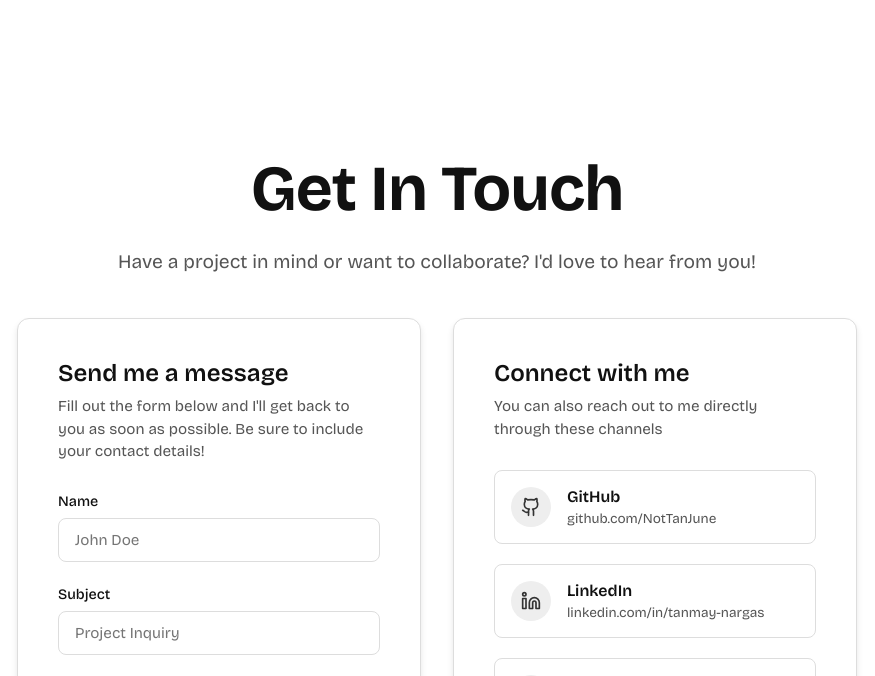
a successful submit still starts the 30s cooldown
The width and height of the screenshot is (875, 676).
Type "Ada" into the field labelled "Name" at (219, 540), box [58, 518, 380, 562]
Type "Hello" into the field labelled "Subject" at (219, 633), box [58, 611, 380, 655]
(page scrolled)
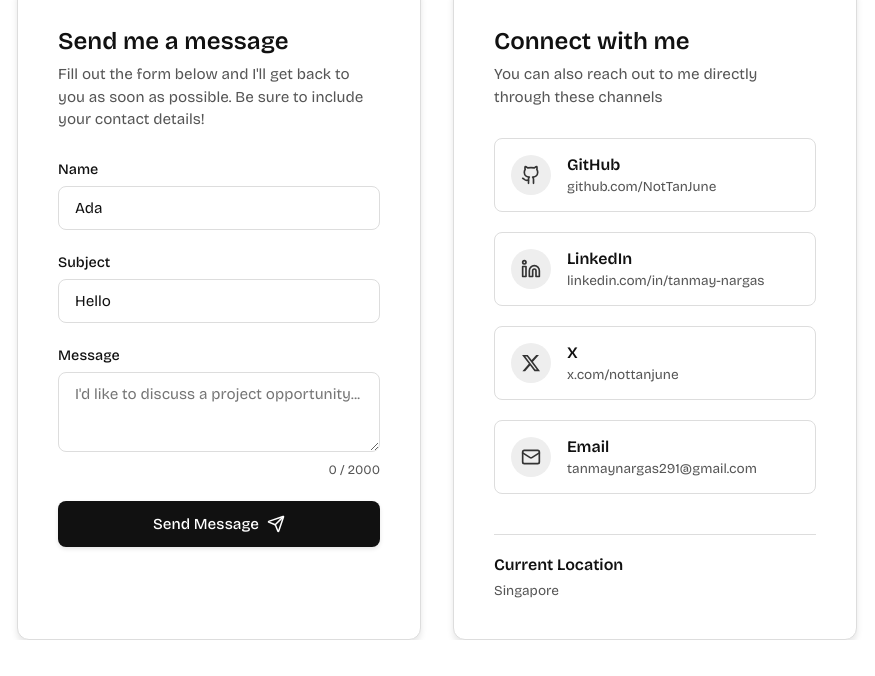
Type "Hi there" into the text box labelled "Message" at (219, 412), box [58, 372, 380, 452]
Click the button "Send Message" at (219, 524), box [58, 501, 380, 547]
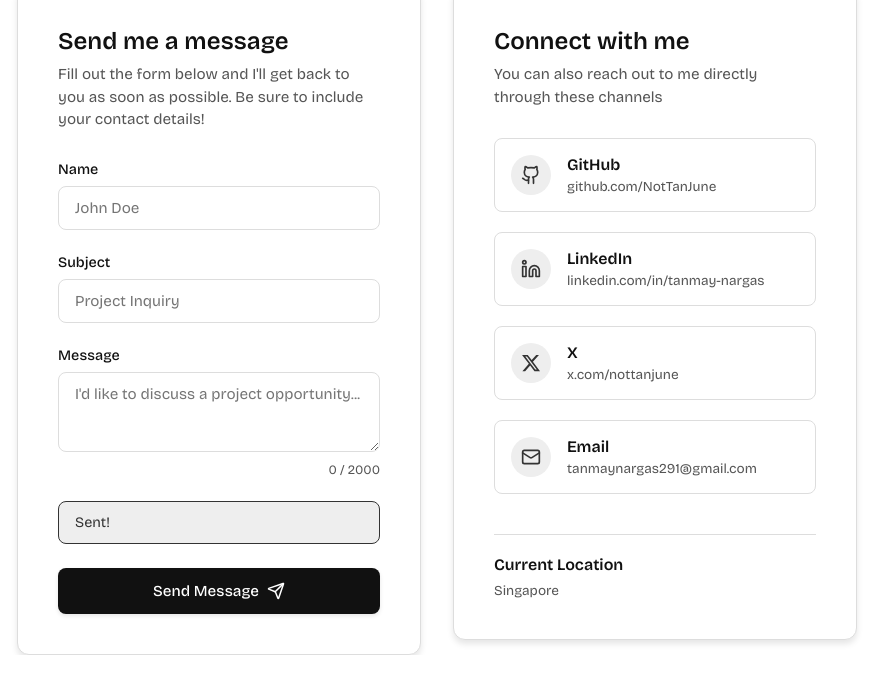
Expected: the message reads "Sent!", [75, 514, 110, 531]
Type "Ada" into the field labelled "Name" at (219, 208), box [58, 186, 380, 230]
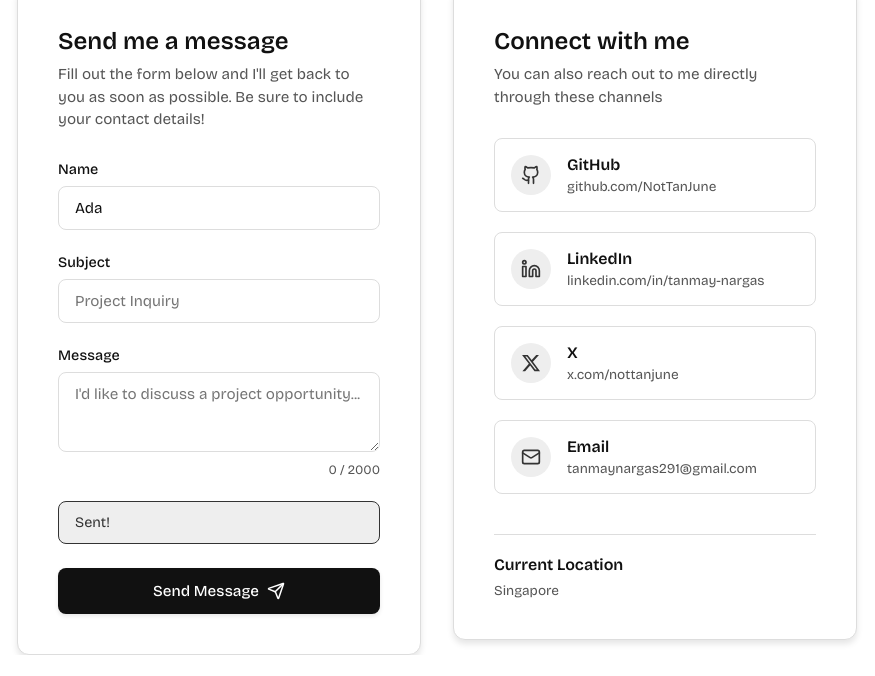
Type "Hello" into the field labelled "Subject" at (219, 301), box [58, 279, 380, 323]
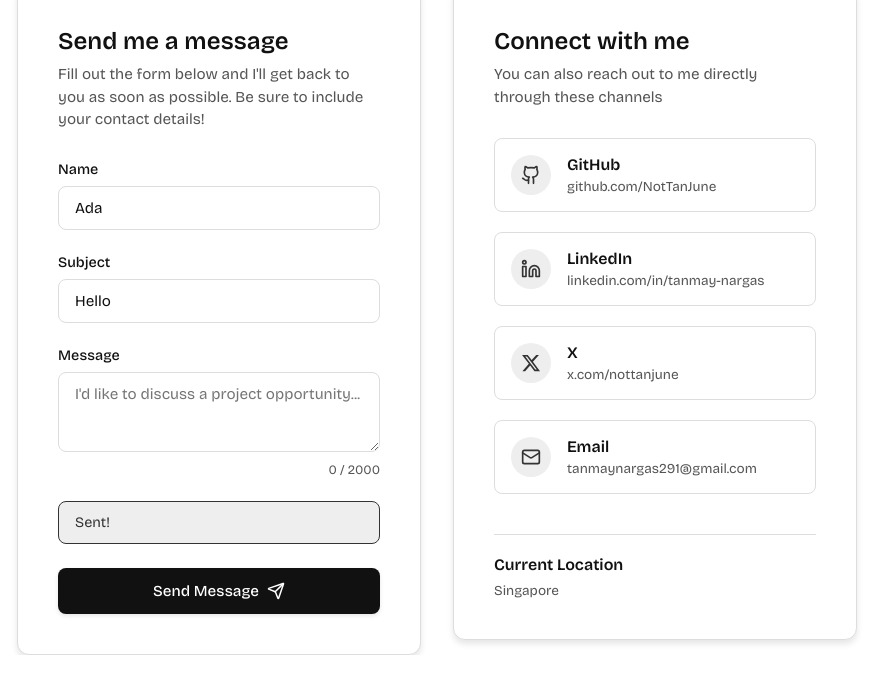
Type "Hi there" into the text box labelled "Message" at (219, 412), box [58, 372, 380, 452]
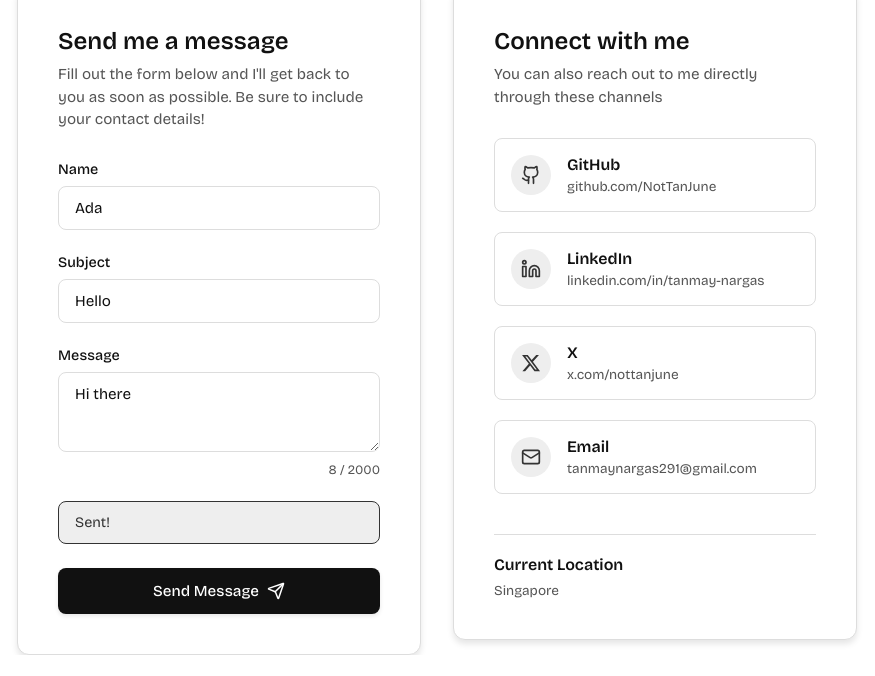
Click the button "Send Message" at (219, 591), box [58, 568, 380, 614]
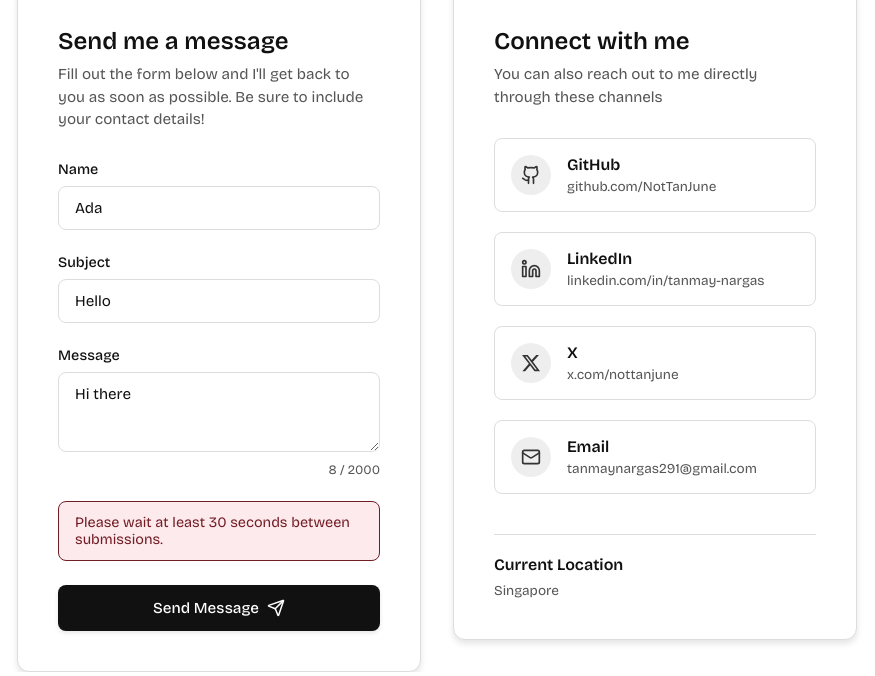
Expected: the message shows "wait at least 30 seconds", [75, 514, 350, 548]
